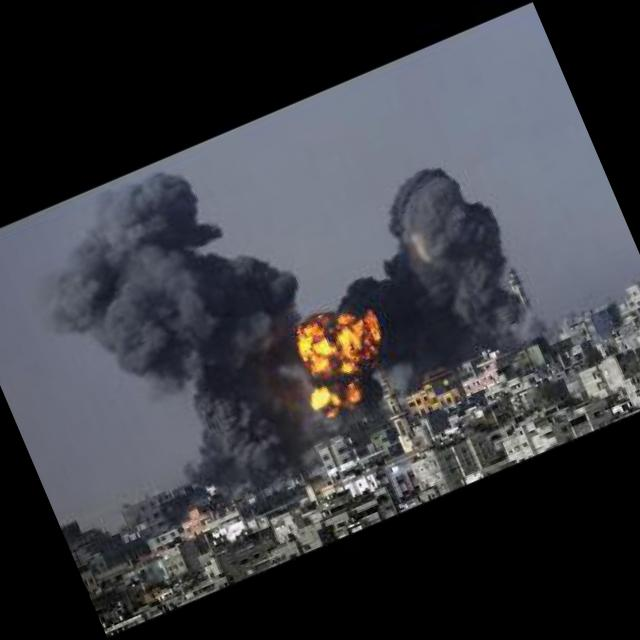fire: (276, 288, 404, 425)
smoke: (0, 141, 327, 534), (325, 140, 552, 392)
